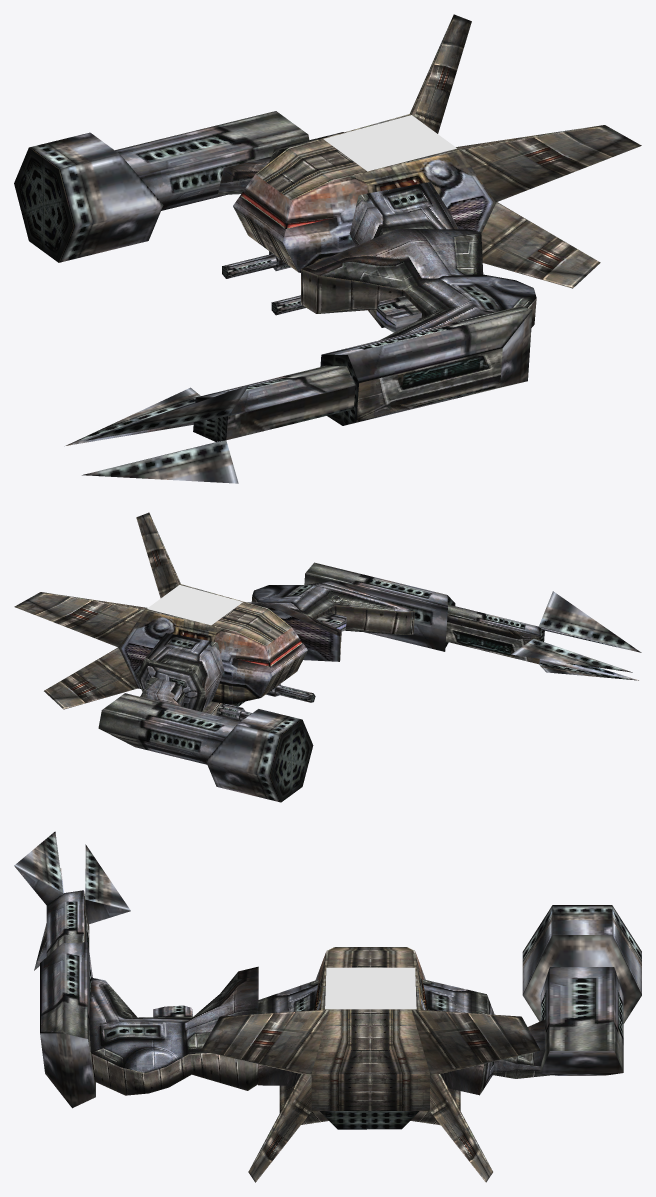
File: pvs10.obj
3 views of the same model, one above another, from view 1: azimuth 30°, elevation 25°; view 2: azimuth 150°, elevation 25°; view 3: azimuth 270°, elevation 25° (orthographic). The views are drawn at different scales.
Visible parts, largest first — view 1: GUN010.001, DECAL000.004; view 2: GUN010.001, DECAL000.004; view 3: GUN010.001, DECAL000.004.
Part boxes in pixels (x1,y1,x2,y2): GUN010.001: (14, 14, 641, 483); DECAL000.004: (323, 115, 456, 171); GUN010.001: (14, 512, 641, 802); DECAL000.004: (147, 585, 242, 625); GUN010.001: (14, 831, 641, 1182); DECAL000.004: (325, 967, 416, 1009).
Size of the model in its own units: 457 by 123 by 392.
Materials: 6 (6 with a texture image).
